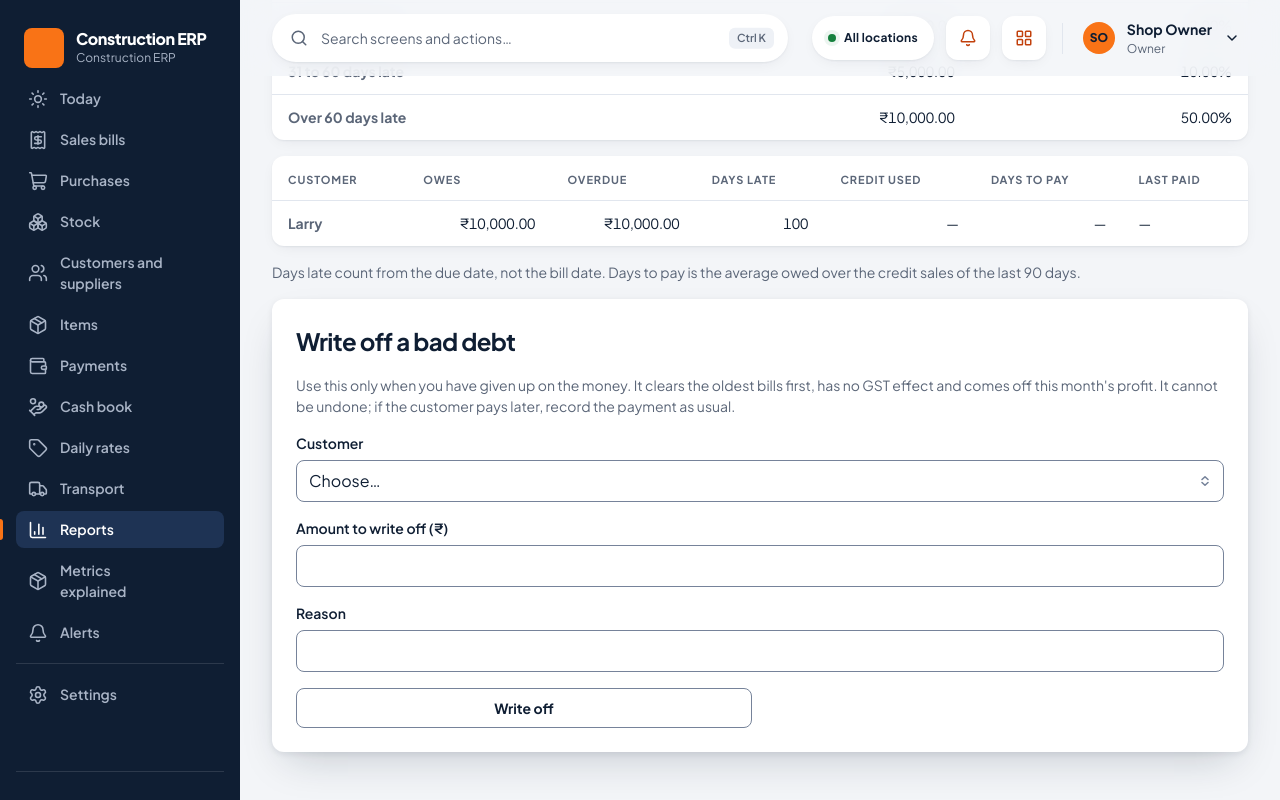
Test: Receivables › lets the owner write off a bad debt with a reason
(page scrolled)
Click the button "Write off".
click(524, 708)  # box [296,688,752,728]
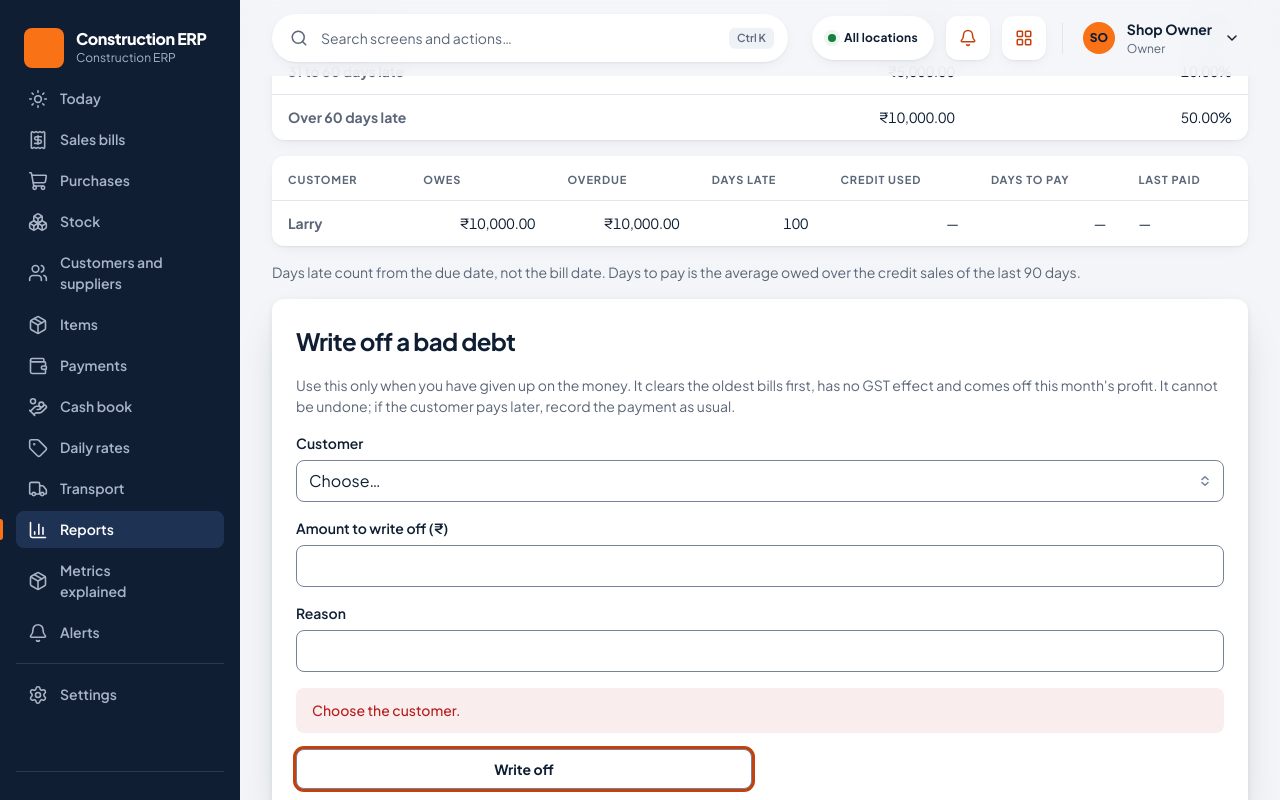
Result: the text "Choose the customer." is shown at [296,688,1224,733]
Select "Larry owes ₹10,000.00" in the dropdown labelled "Customer" at x=760, y=481, box [296,460,1224,502]
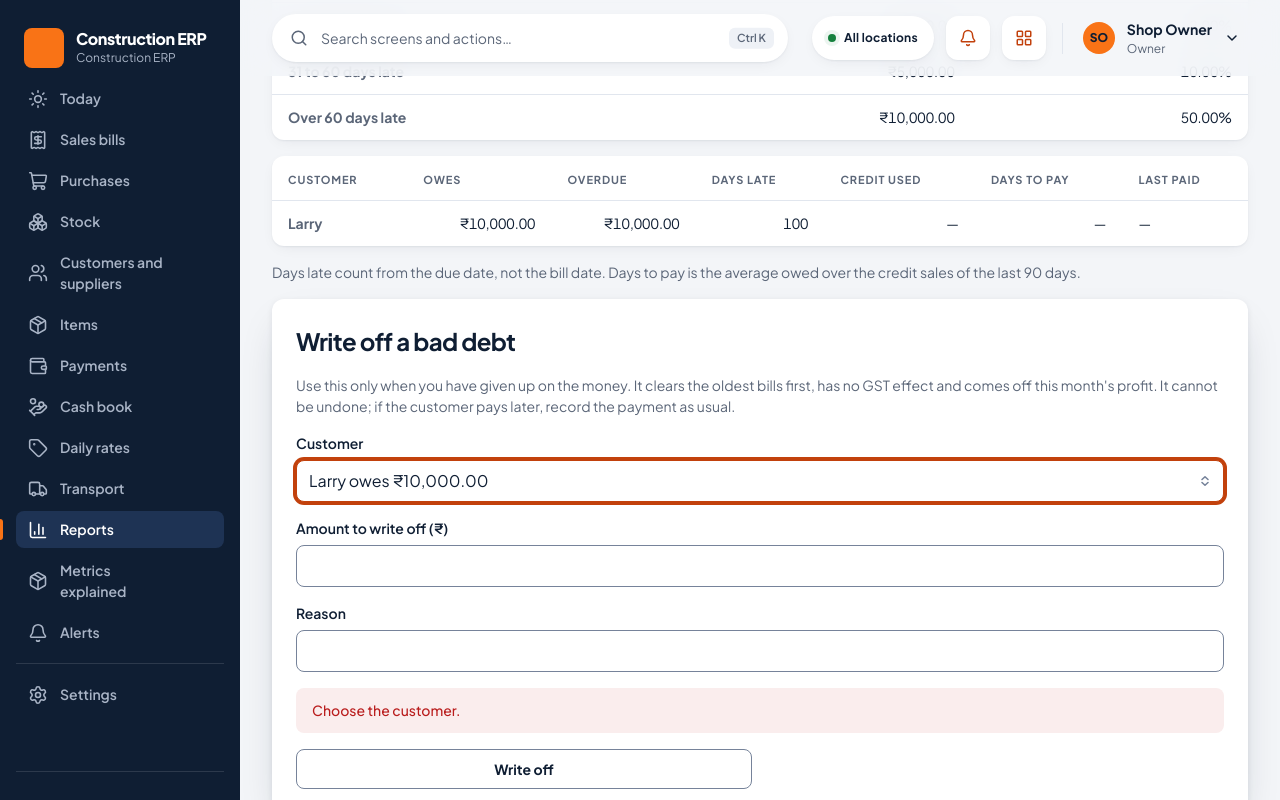
Type "4000" into the field labelled "Amount to write off (₹)".
click(760, 566); type("4000")  # box [296,545,1224,587]
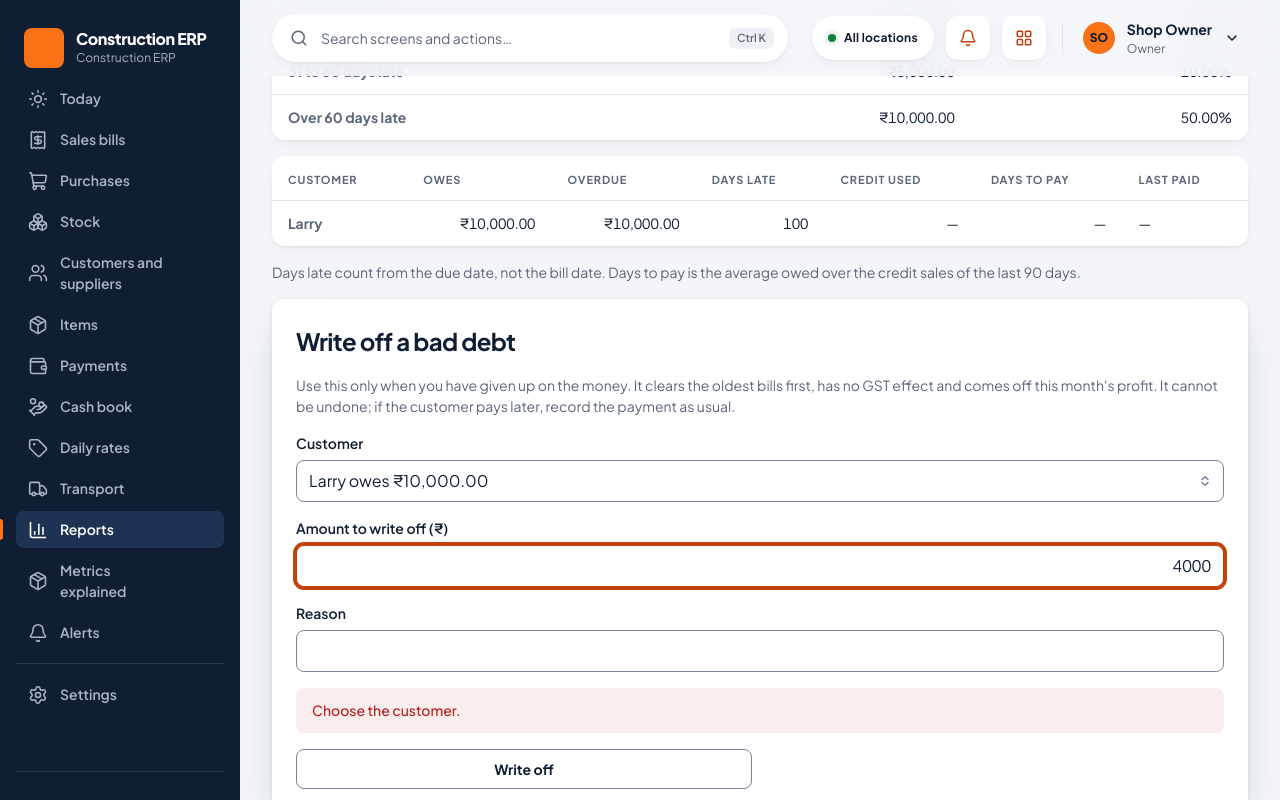
Click the button "Write off".
click(524, 769)  # box [296,749,752,789]
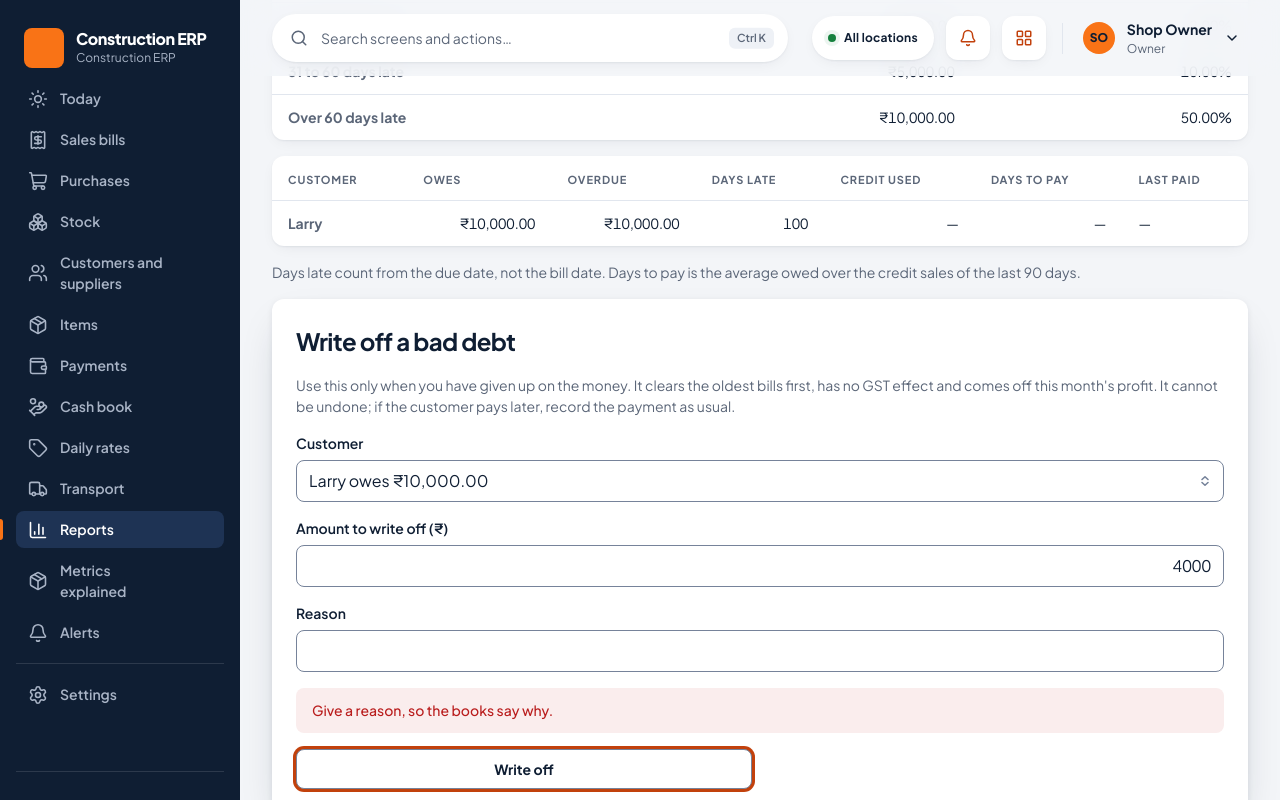
Result: the text "Give a reason, so the books say why." is shown at [296,688,1224,733]
Type "Contractor untraceable" into the field labelled "Reason".
click(760, 651); type("Contractor untraceable")  # box [296,630,1224,672]
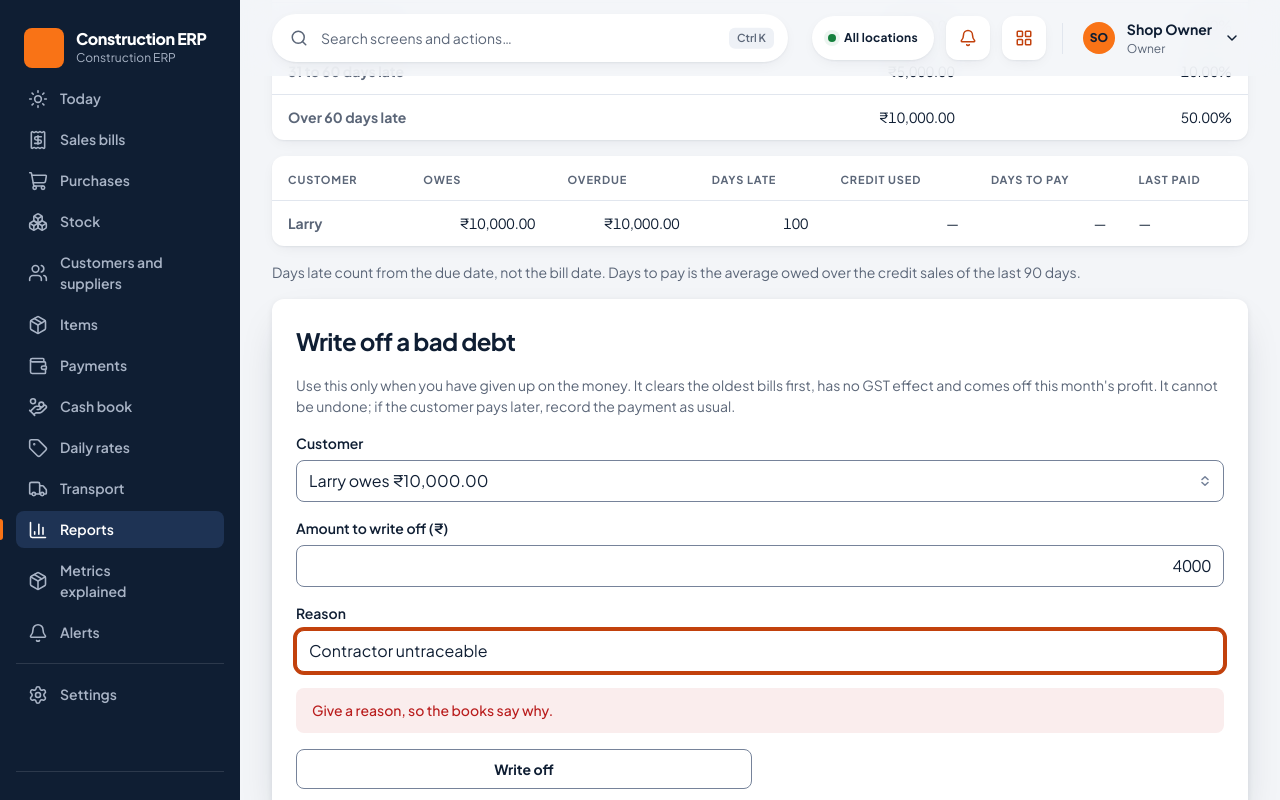
Click the button "Write off".
click(524, 769)  # box [296,749,752,789]
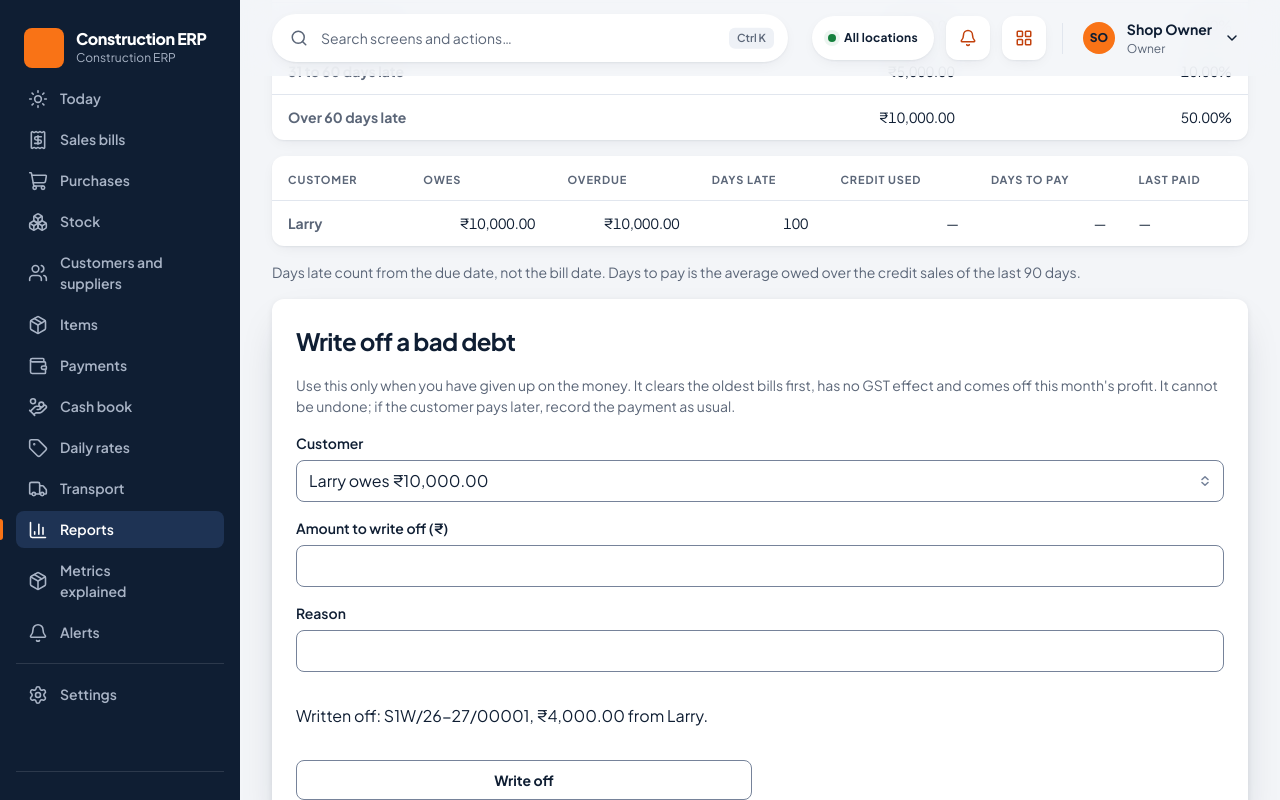
Result: the text "Written off: S1W/26-27/00001, ₹4,000.00 from Larry." is shown at [296,705,708,726]
